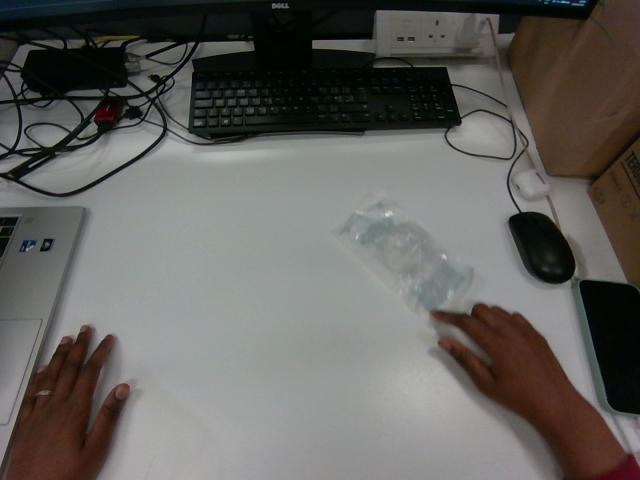gallipot: (334, 194, 472, 314)
